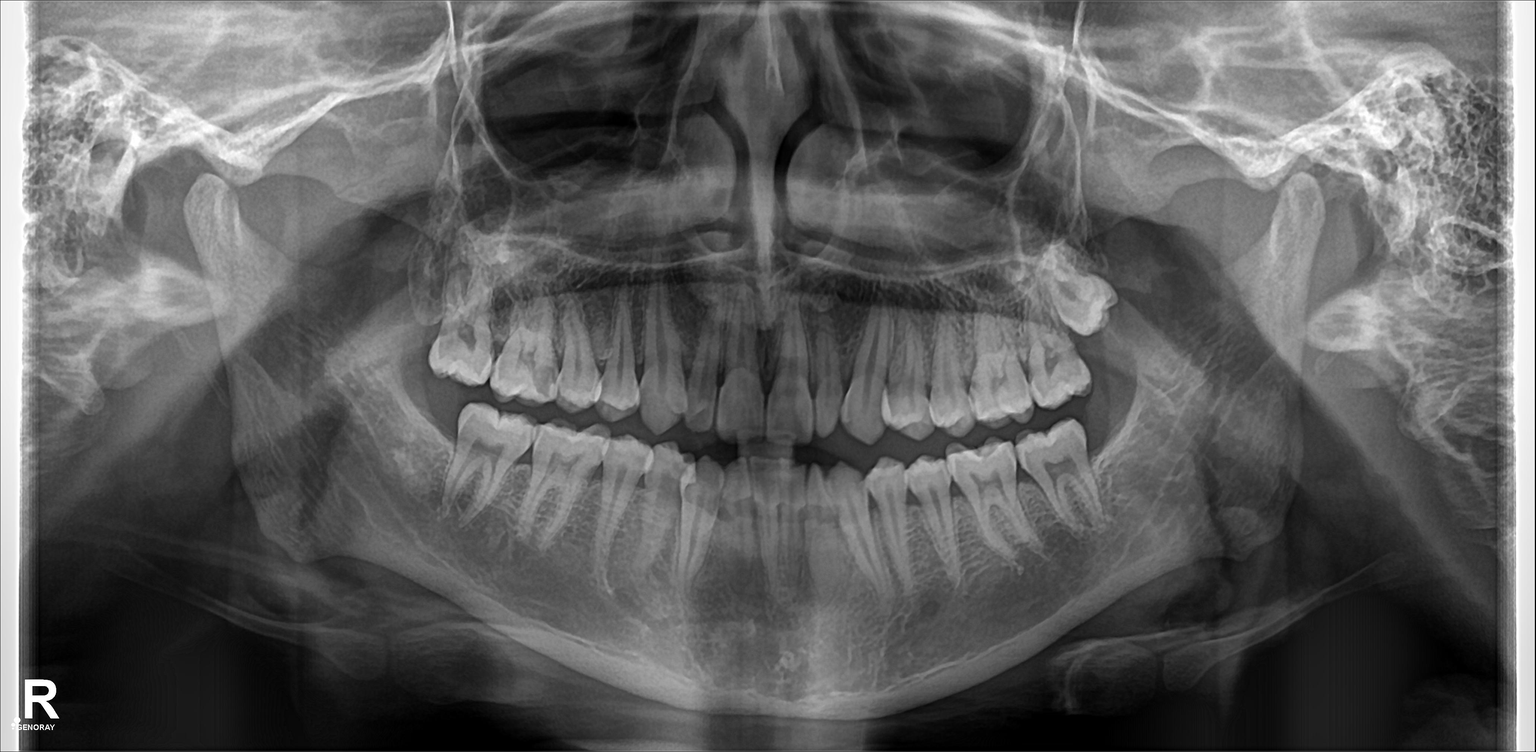Dental Caries: (529, 367, 560, 398)
Impacted Third Molar: (1041, 253, 1116, 335)
Missing Tooth: (1088, 396, 1132, 487), (408, 391, 456, 474)
